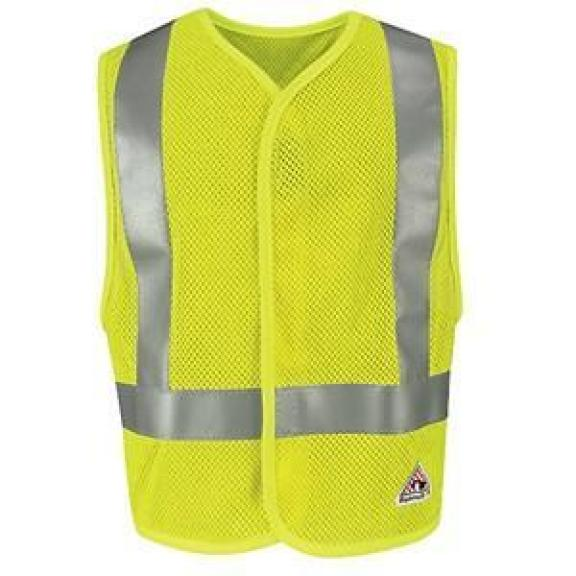safety_vest: (94, 4, 465, 560)
